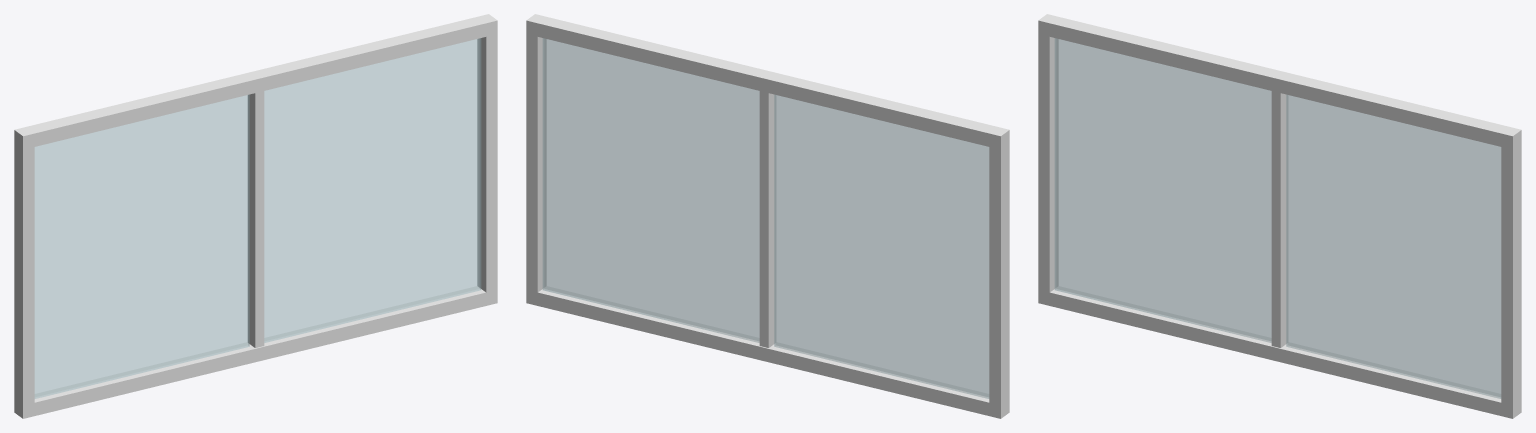
The model's file is baranda-blanco-claro.glb.
3 renders of one model, left to right at view 1: azimuth 30°, elevation 25°; view 2: azimuth 150°, elevation 25°; view 3: azimuth 330°, elevation 25°, orthographic.
Parts seen in each view (by area): view 1: glass0.45, glass-0.45, rail1.0250000000000001, rail0.025, post-0.9, post0.9, center; view 2: glass0.45, glass-0.45, rail1.0250000000000001, rail0.025, post-0.9, post0.9, center; view 3: glass-0.45, glass0.45, rail1.0250000000000001, rail0.025, post0.9, post-0.9, center.
Boxes of the visible parts, x1=… form: glass0.45: x1=264, y1=38, x2=481, y2=342; glass-0.45: x1=34, y1=95, x2=249, y2=398; rail1.0250000000000001: x1=26, y1=15, x2=491, y2=147; rail0.025: x1=29, y1=286, x2=491, y2=415; post-0.9: x1=14, y1=127, x2=34, y2=418; post0.9: x1=477, y1=14, x2=497, y2=305; center: x1=248, y1=71, x2=264, y2=347; glass0.45: x1=542, y1=38, x2=759, y2=342; glass-0.45: x1=774, y1=95, x2=989, y2=398; rail1.0250000000000001: x1=532, y1=15, x2=999, y2=148; rail0.025: x1=532, y1=286, x2=994, y2=417; post-0.9: x1=989, y1=127, x2=1009, y2=418; post0.9: x1=526, y1=14, x2=546, y2=304; center: x1=759, y1=71, x2=775, y2=347; glass-0.45: x1=1054, y1=38, x2=1271, y2=342; glass0.45: x1=1286, y1=95, x2=1501, y2=398; rail1.0250000000000001: x1=1044, y1=15, x2=1511, y2=147; rail0.025: x1=1044, y1=286, x2=1506, y2=417; post0.9: x1=1501, y1=127, x2=1521, y2=418; post-0.9: x1=1038, y1=14, x2=1058, y2=305; center: x1=1271, y1=71, x2=1287, y2=347.
Size of the model in its own units: 1.85 by 1.05 by 0.06.
